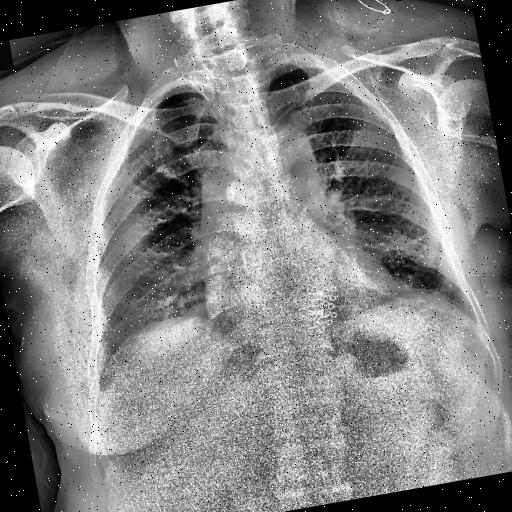0- Aortic enlargement: (191, 122, 322, 222), (252, 118, 318, 182)
3- Cardiomegaly: (198, 239, 402, 337), (199, 243, 401, 335)
